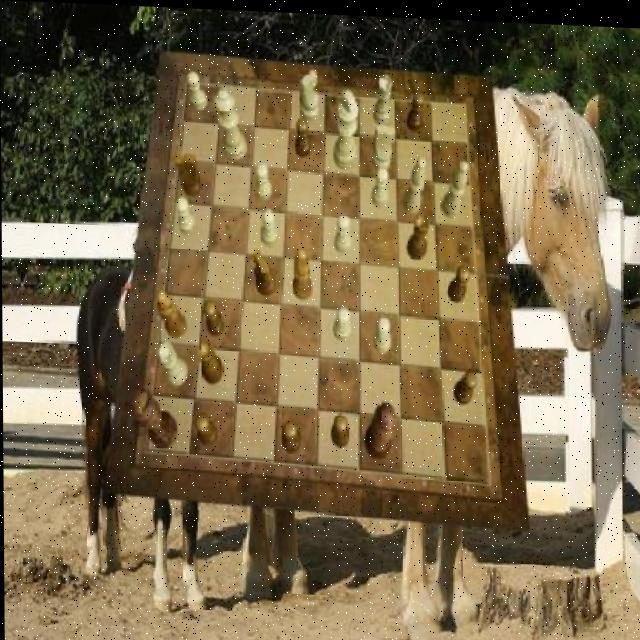bishop: (154, 290, 185, 339), (290, 247, 311, 300)
black-bishop: (129, 387, 177, 449)
black-king: (173, 152, 201, 196), (252, 247, 276, 294)
black-knight: (446, 260, 469, 299), (193, 411, 217, 446), (452, 365, 476, 400), (202, 296, 223, 334), (279, 417, 300, 451), (329, 410, 349, 445), (406, 88, 423, 129), (294, 115, 310, 155)
black-pawn: (362, 399, 395, 458)
black-queen: (196, 339, 222, 382), (405, 210, 429, 256)
black-rook: (441, 155, 469, 215), (401, 153, 426, 211)
white-bishop: (331, 87, 358, 168)
white-king: (372, 122, 396, 171), (301, 67, 319, 120)
white-knight: (186, 70, 207, 109), (175, 195, 195, 234), (333, 212, 351, 252), (373, 312, 391, 350), (370, 164, 387, 204), (255, 160, 272, 199), (260, 206, 277, 244), (333, 304, 351, 338)
white-pawn: (214, 87, 247, 161)
white-queen: (156, 341, 187, 384), (373, 73, 393, 123)
